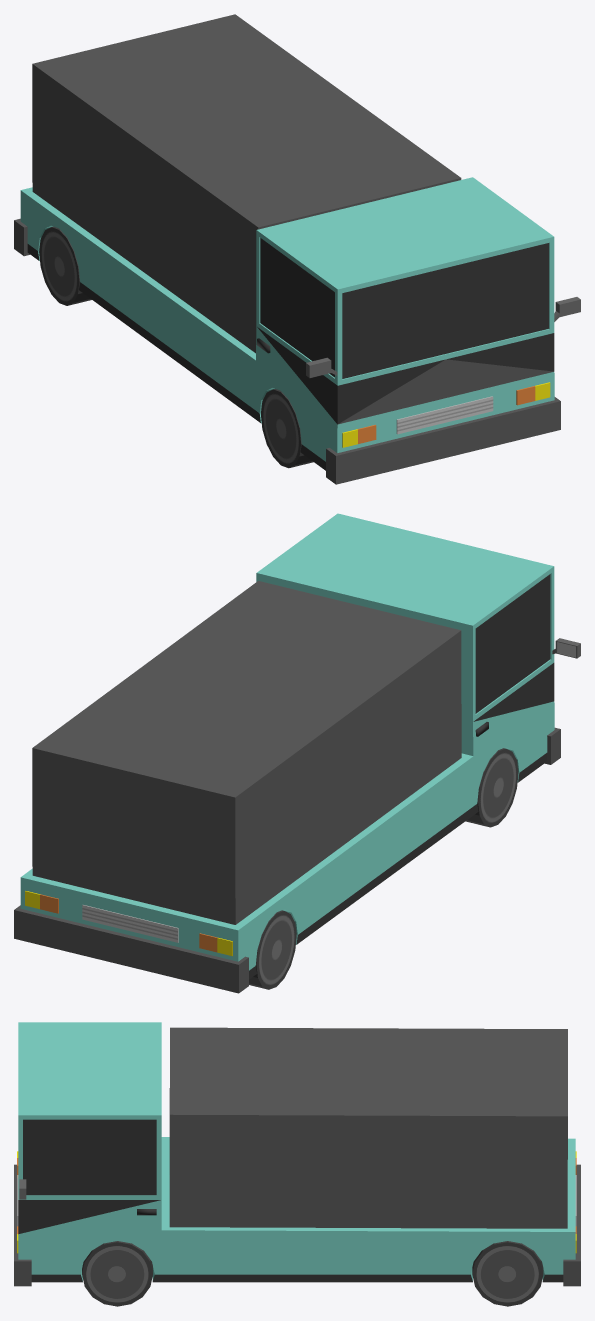
File: truck03_color03.fbx
3 views of the same model, one above another, from view 1: azimuth 30°, elevation 25°; view 2: azimuth 150°, elevation 25°; view 3: azimuth 270°, elevation 25° (orthographic). The views are drawn at different scales.
Visible parts, largest first — view 1: Cube.449, Cube.453, Cube.450; view 2: Cube.449, Cube.450, Cube.453; view 3: Cube.449, Cube.451, Cube.452.
Boxes of the visible parts, x1,y1,x2,y2 form: Cube.449: [14, 14, 580, 484]; Cube.453: [39, 226, 91, 305]; Cube.450: [261, 389, 313, 468]; Cube.449: [14, 513, 580, 993]; Cube.450: [465, 748, 518, 827]; Cube.453: [249, 910, 296, 989]; Cube.449: [14, 1022, 580, 1286]; Cube.451: [472, 1241, 543, 1306]; Cube.452: [82, 1241, 152, 1306].
Size of the model in its own units: 357 by 273 by 734.
